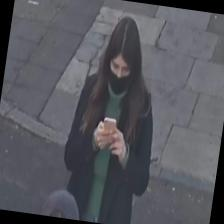person: (54, 10, 171, 224)
